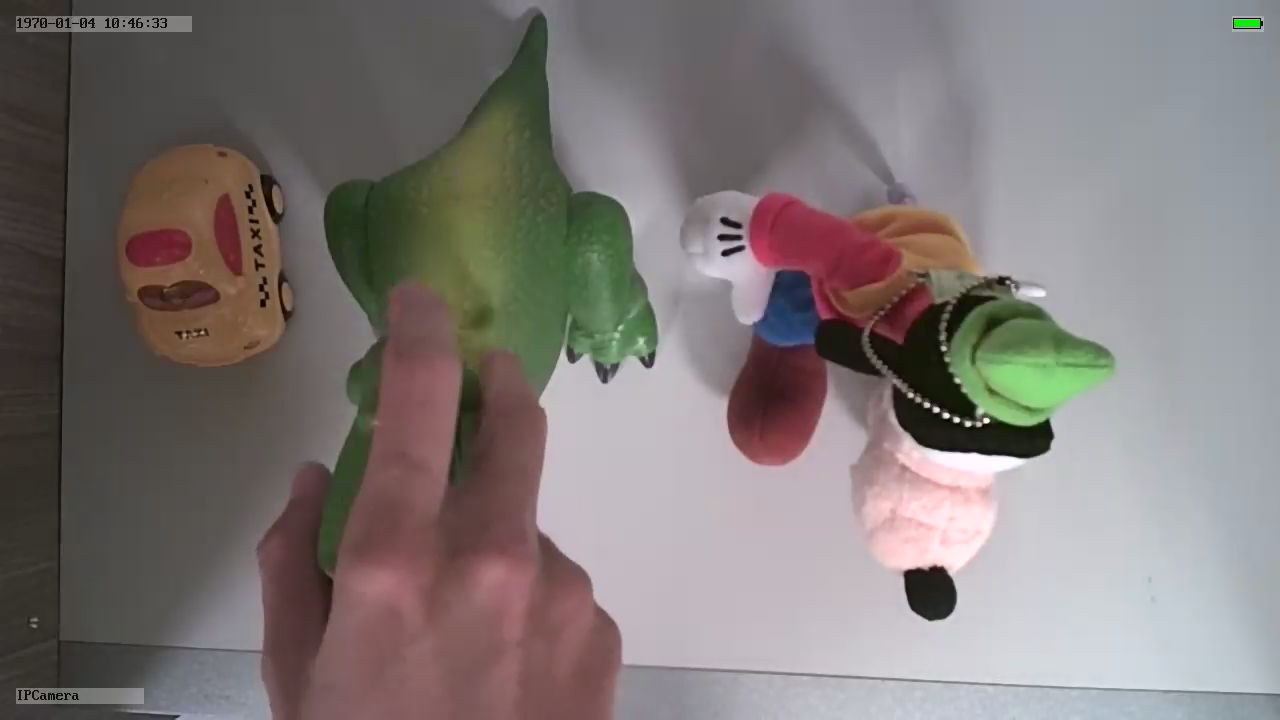goofy: (676, 185, 1116, 623)
